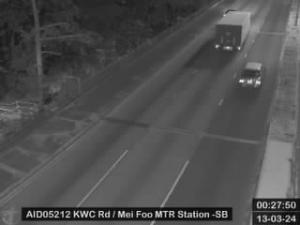truck: (214, 9, 252, 53)
vehicle: (236, 61, 266, 91)
